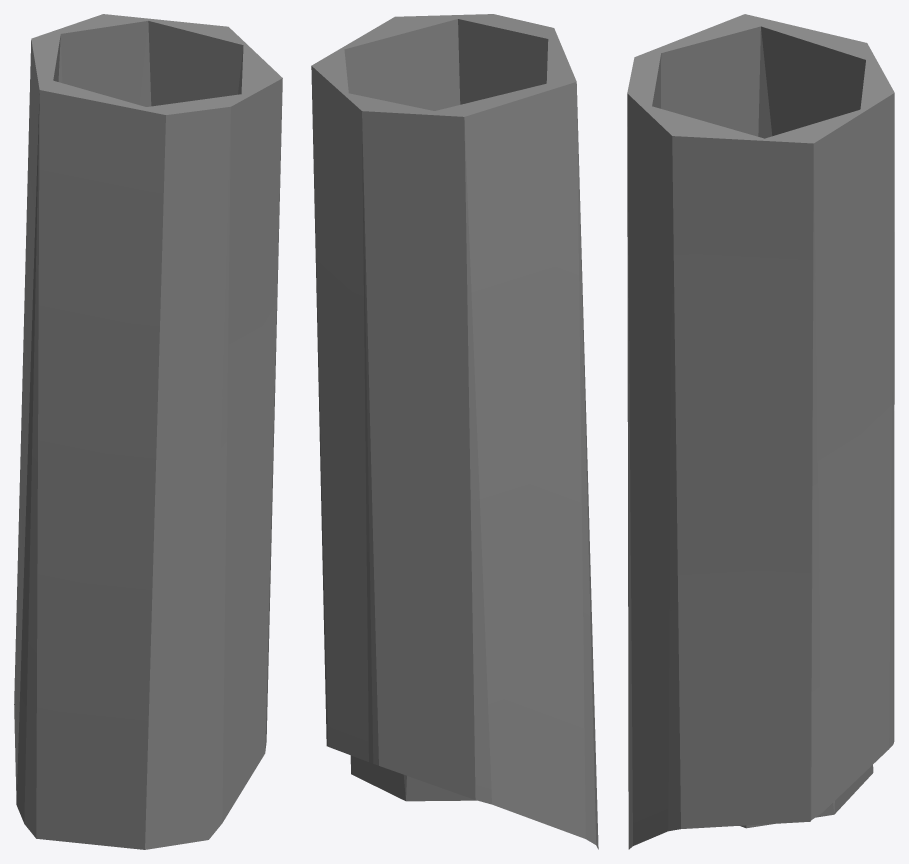
Rendered from Tubo2.fbx.
3 views of the same model, side by side, from view 1: azimuth 30°, elevation 25°; view 2: azimuth 150°, elevation 25°; view 3: azimuth 270°, elevation 25° (orthographic). The views are drawn at different scales.
Parts seen in each view (by area): view 1: Tubo2; view 2: Tubo2; view 3: Tubo2.
Boxes of the visible parts, x1,y1,x2,y2 form: Tubo2: (14,14,282,849); Tubo2: (311,14,598,849); Tubo2: (627,14,894,849).
Size of the model in its own units: 72.65 by 215 by 66.94.
